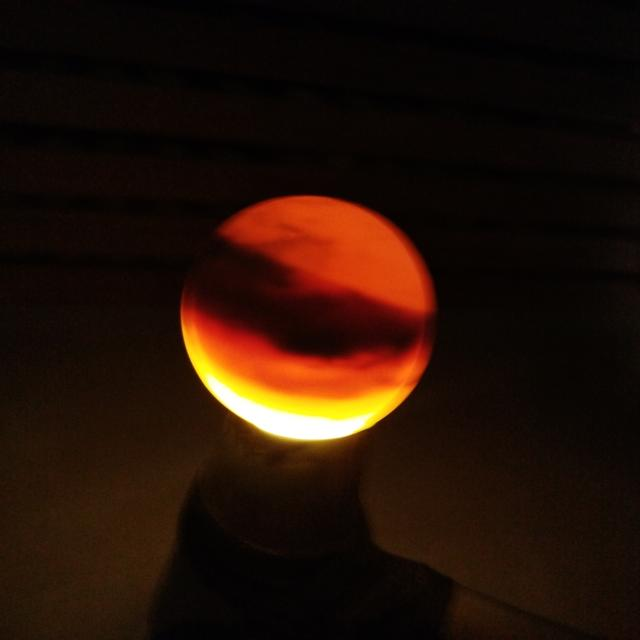Area Infectada: (183, 231, 424, 359)
